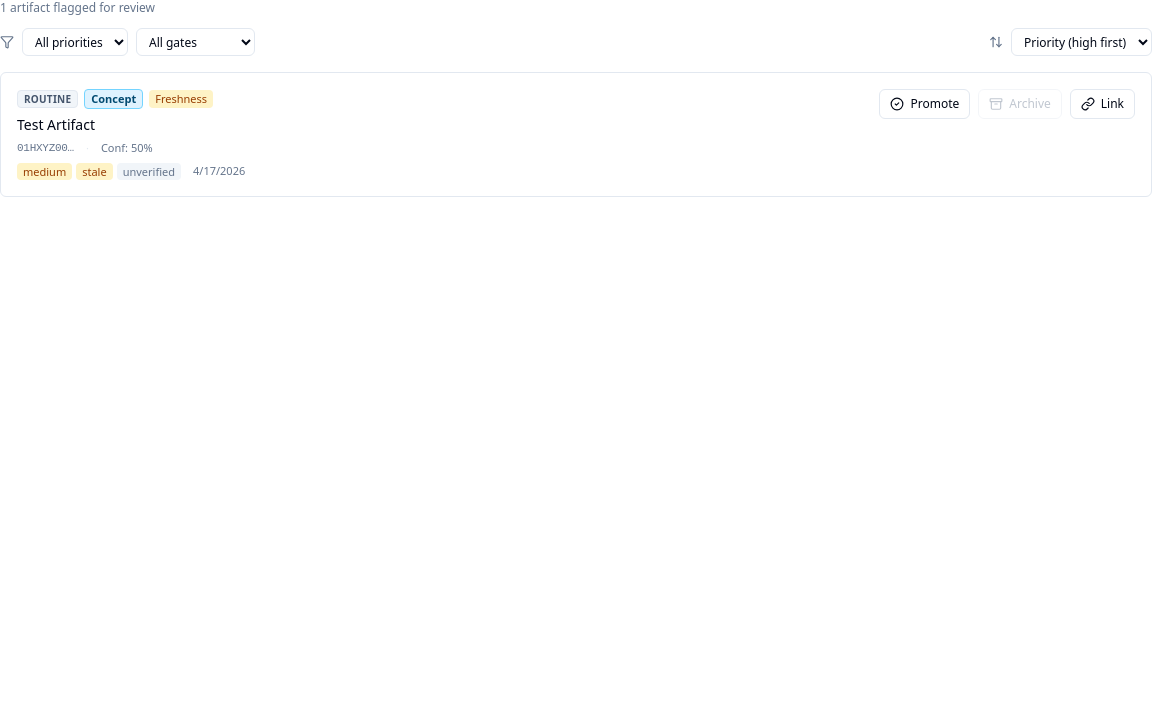
Scenario: ReviewQueue — Link action: dialog › shows error toast on link failure without closing dialog
This screenshot has width=1152, height=720.
Click the button "Link".
click(1102, 104)  # box [1070,89,1135,119]
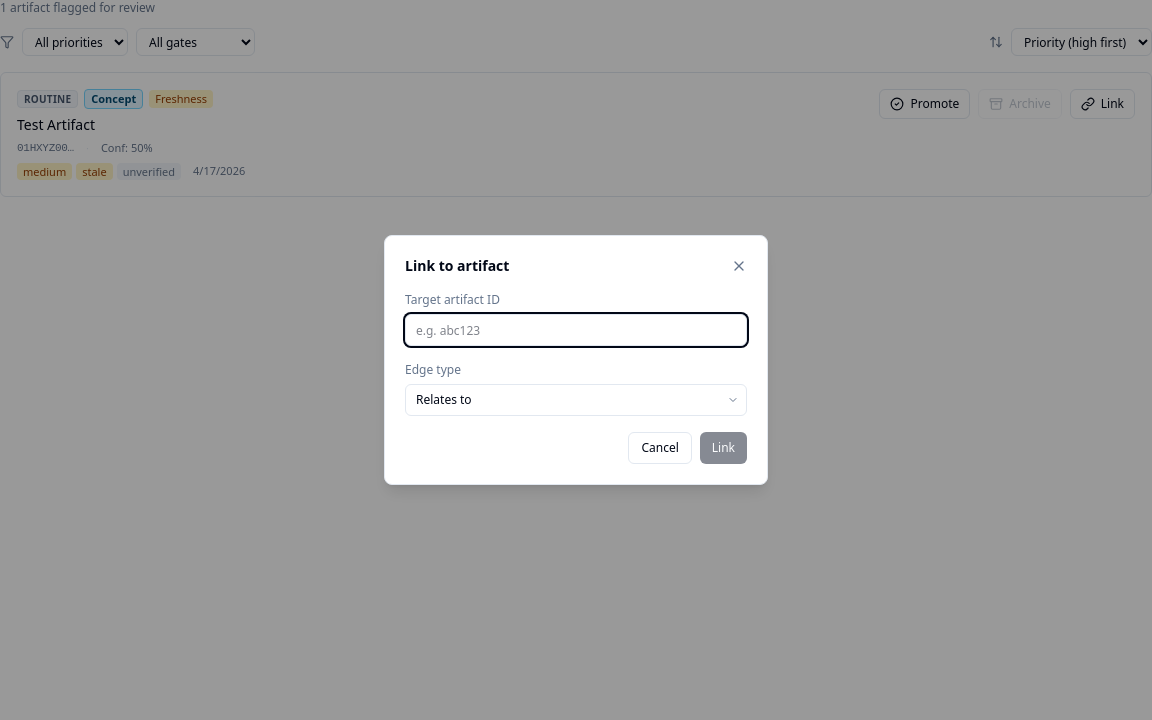
Check: the dialog is shown
Type "bad-id" into the field labelled "Target artifact ID".
click(576, 330); type("bad-id")  # box [405,314,747,346]
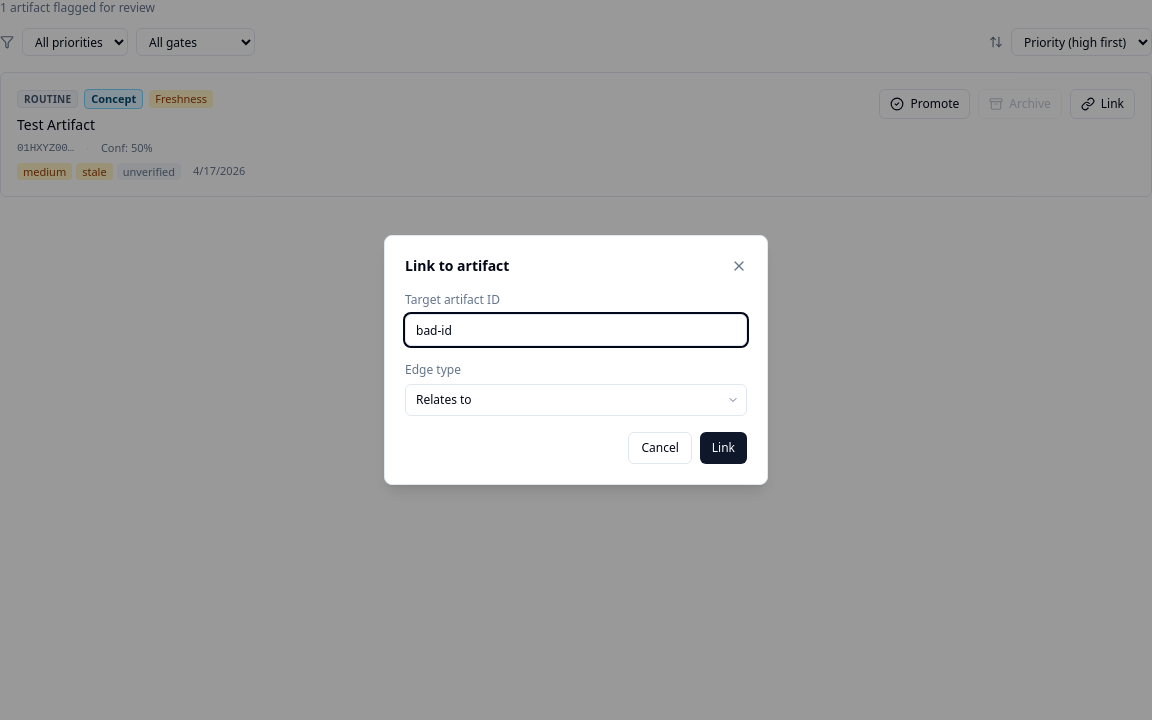
Click the button "Link".
click(723, 448)  # box [700,432,747,464]
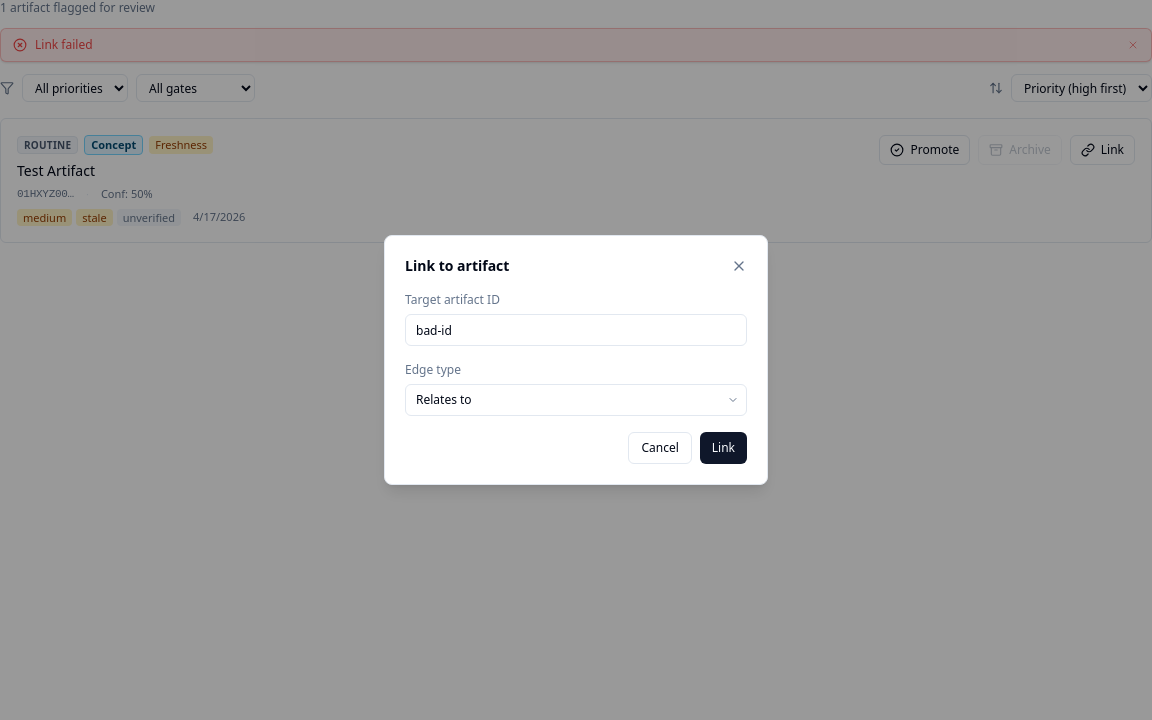
Check: the text "Link failed" is shown, box [35,36,92,53]
